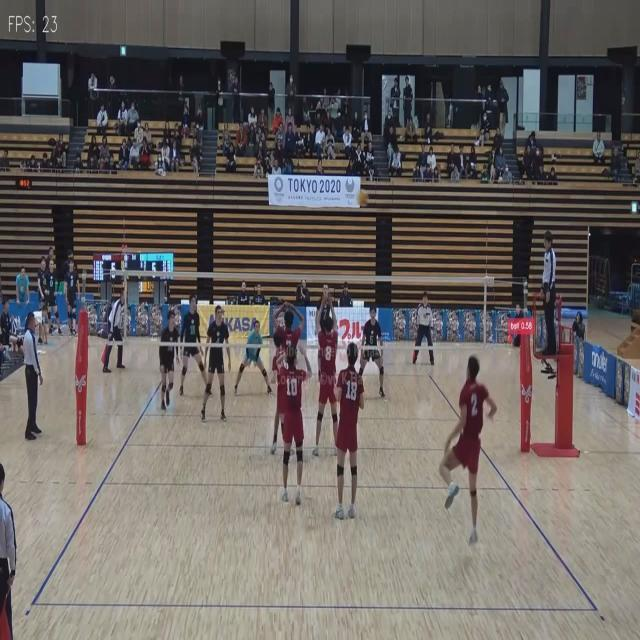volleyball: (356, 192, 368, 206)
